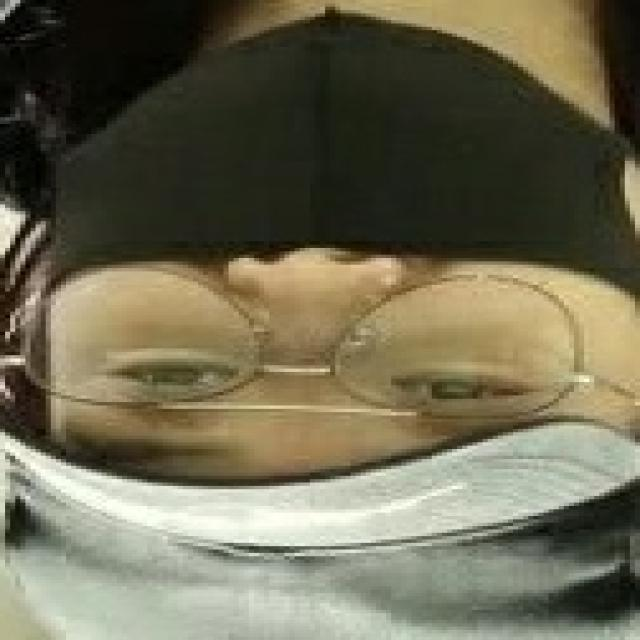mask: (20, 17, 634, 313)
